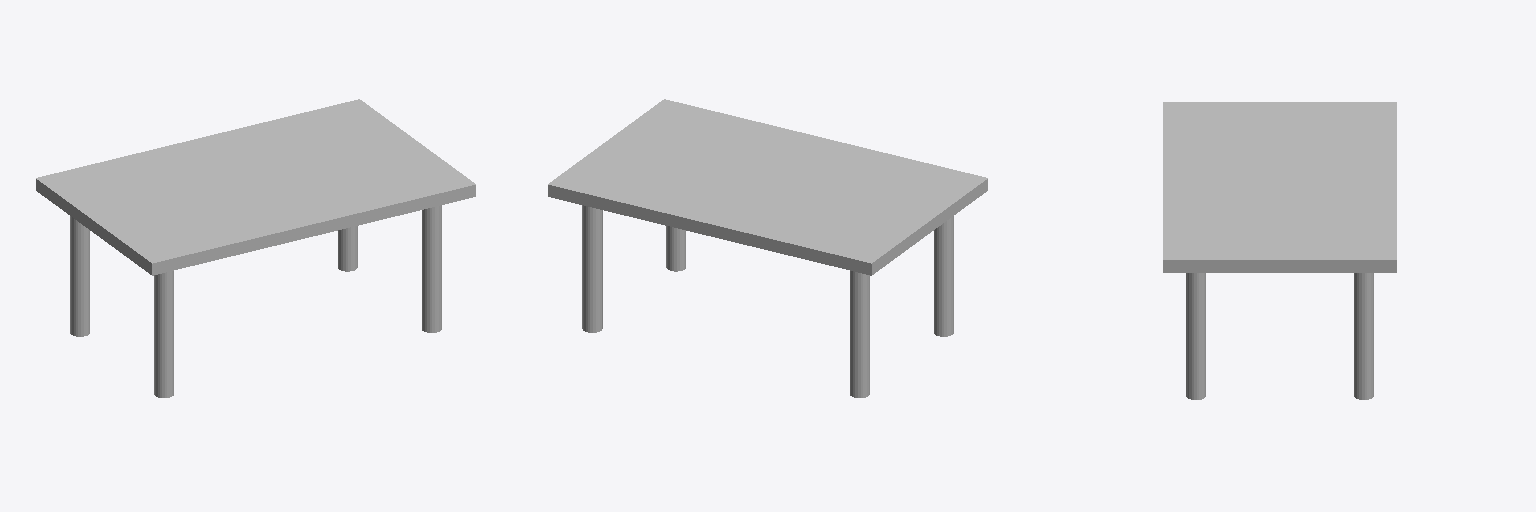
Rendered from table.obj.
The picture shows the model from 3 angles: view 1: azimuth 30°, elevation 25°; view 2: azimuth 150°, elevation 25°; view 3: azimuth 270°, elevation 25°; orthographic projection.
Parts seen in each view (by area): view 1: FormFonts_001; view 2: FormFonts_001; view 3: FormFonts_001.
Boxes of the visible parts, <box> form: FormFonts_001: <box>36,99,475,397</box>; FormFonts_001: <box>548,99,987,397</box>; FormFonts_001: <box>1163,102,1396,399</box>.
Bounding box in the file's own units: 74.38 × 32.75 × 46.38.